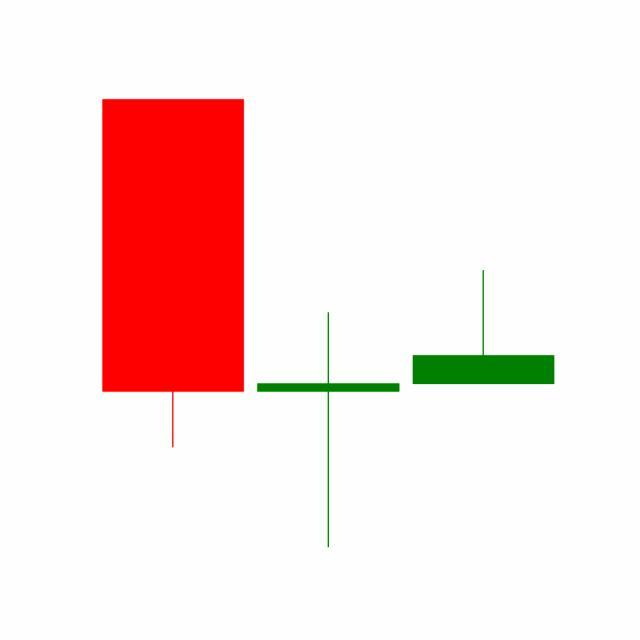Spinning Top: (250, 311, 407, 551)
